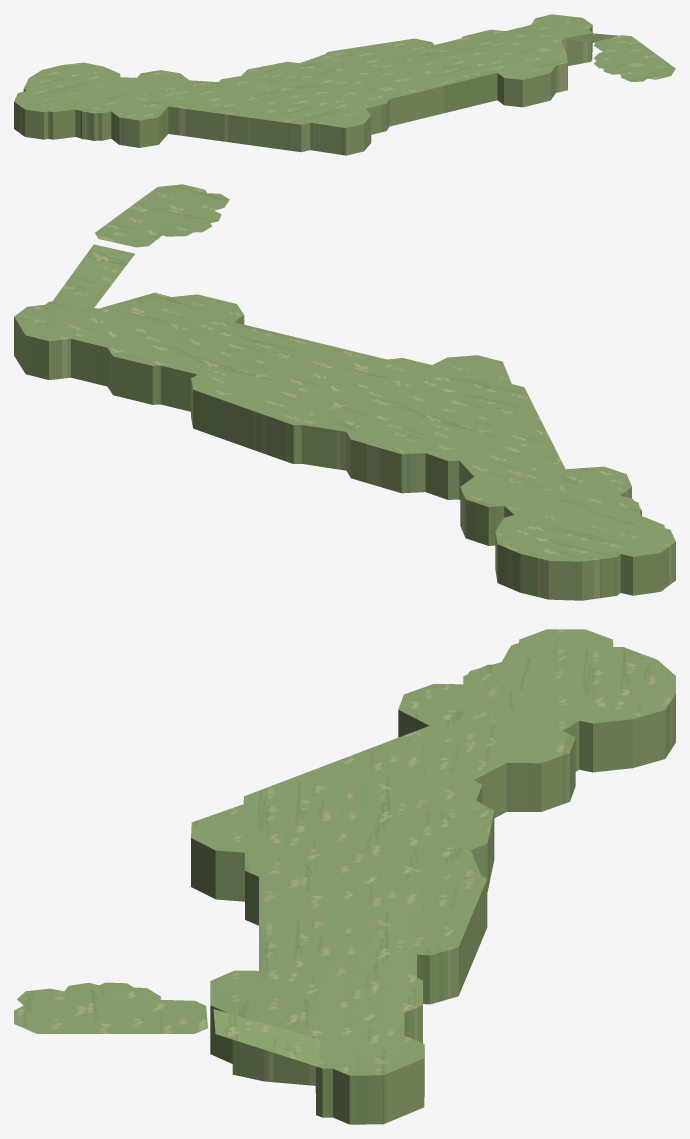
Rendered from terrain_parts0_1.fbx.
3 views of the same model, one above another, from view 1: azimuth 30°, elevation 25°; view 2: azimuth 150°, elevation 25°; view 3: azimuth 270°, elevation 25° (orthographic). The views are drawn at different scales.
Visible parts, largest first — view 1: Terrain1_upper, Terrain0_Upper; view 2: Terrain1_upper, Terrain0_Upper; view 3: Terrain1_upper, Terrain0_Upper.
Part boxes in pixels (x1=…): Terrain1_upper: x1=14, y1=14, x2=592, y2=155; Terrain0_Upper: x1=563, y1=33, x2=675, y2=81; Terrain1_upper: x1=14, y1=292, x2=675, y2=600; Terrain0_Upper: x1=53, y1=184, x2=229, y2=309; Terrain1_upper: x1=191, y1=629, x2=675, y2=1124; Terrain0_Upper: x1=14, y1=982, x2=320, y2=1067.
Size of the model in its own units: 24245 by 2232 by 15195.
1 material, 1 textured.
